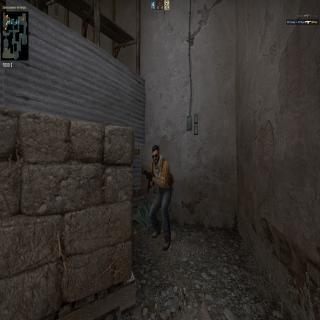T-Head: (151, 143, 161, 165)
